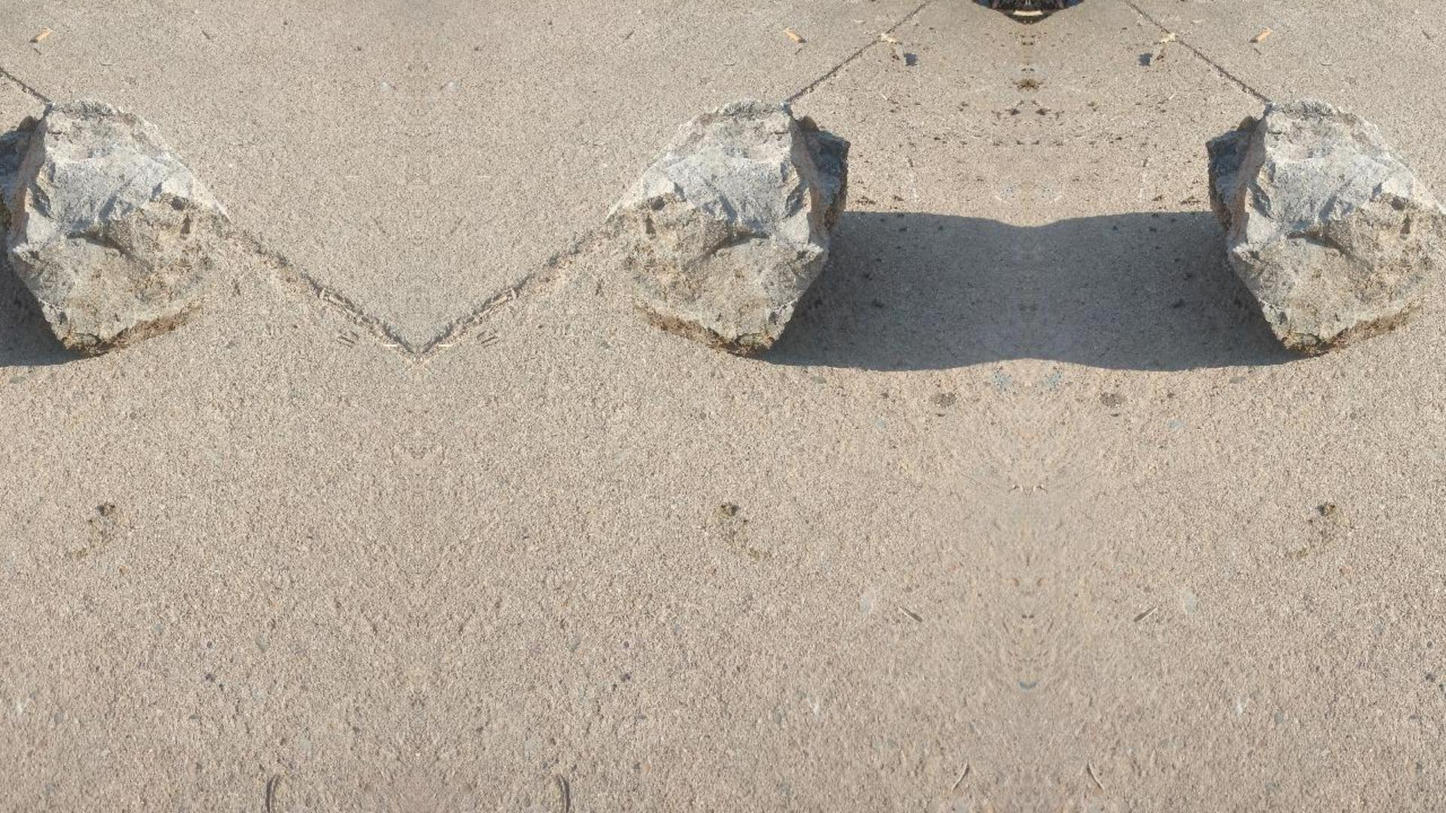rock: (609, 100, 848, 349), (1208, 100, 1445, 350), (0, 100, 226, 350)
